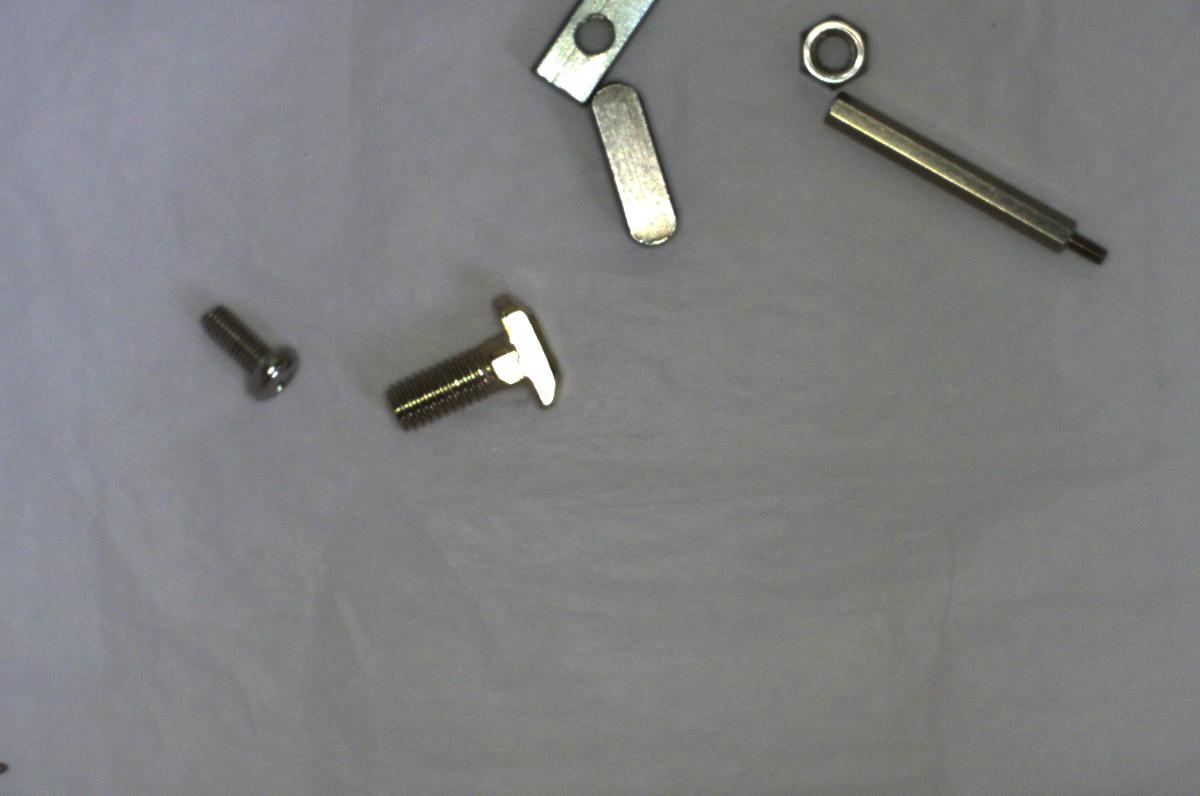Hexagon nut: (791, 8, 872, 93)
Hexagonal steel column: (814, 93, 1124, 276)
Keybar: (572, 79, 680, 258)
Rectangular nut: (520, 2, 667, 107)
Round head screw: (193, 301, 304, 408)
T-shaped screw: (362, 282, 572, 439)
